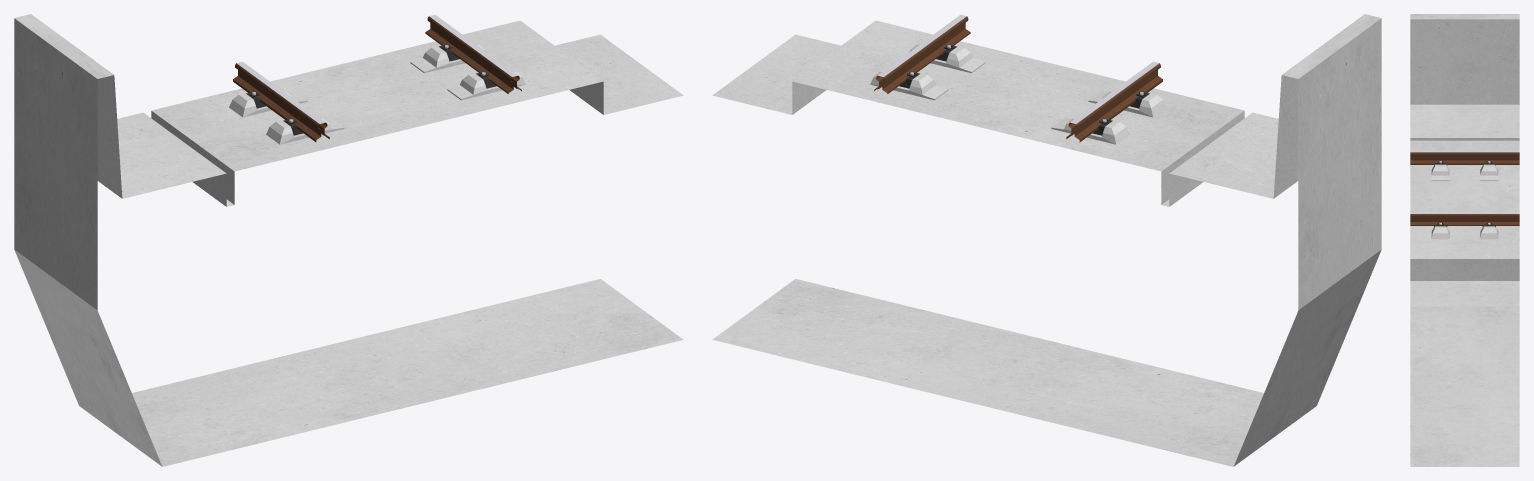
File: msd_rail_viaduct_side.obj
3 views of the same model, side by side, from view 1: azimuth 30°, elevation 25°; view 2: azimuth 150°, elevation 25°; view 3: azimuth 270°, elevation 25° (orthographic). The views are drawn at different scales.
Visible parts, largest first — view 1: cuboid; view 2: cuboid; view 3: cuboid.
Boxes of the visible parts, <box> form: cuboid: <box>14,14,683,466</box>; cuboid: <box>712,14,1381,466</box>; cuboid: <box>1410,14,1519,466</box>.
Size of the model in its own units: 4.57 by 3.01 by 1.12.
5 materials, 4 textured.
